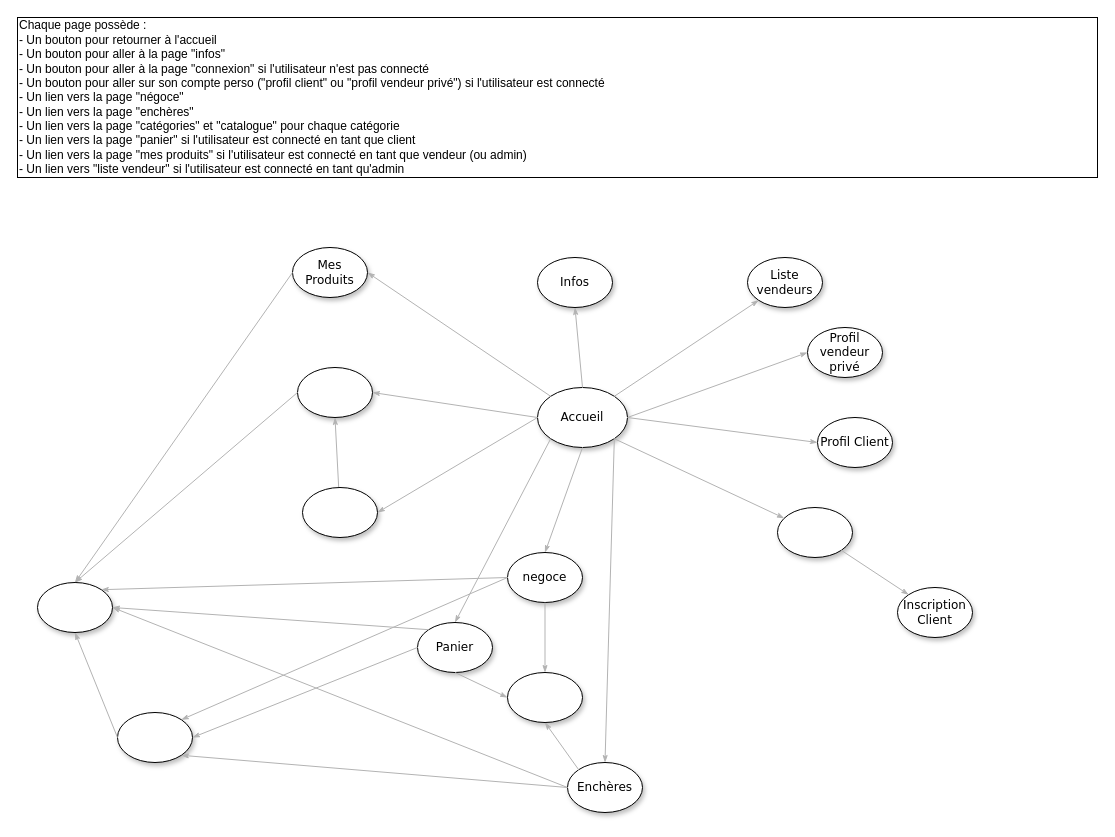
Some shapes in this 1115 by 837 pixel diagram are drawn without their labels. Here are the shapes that lost their labels. From the top down, the centre of each, then its label:
At (335,393): "Catalogue".
At (341,513): "Catégories".
At (815,533): "connexion".
At (75,609): "Produit".
At (545,699): "Paiement".
At (155,739): "Profil vendeur public".
